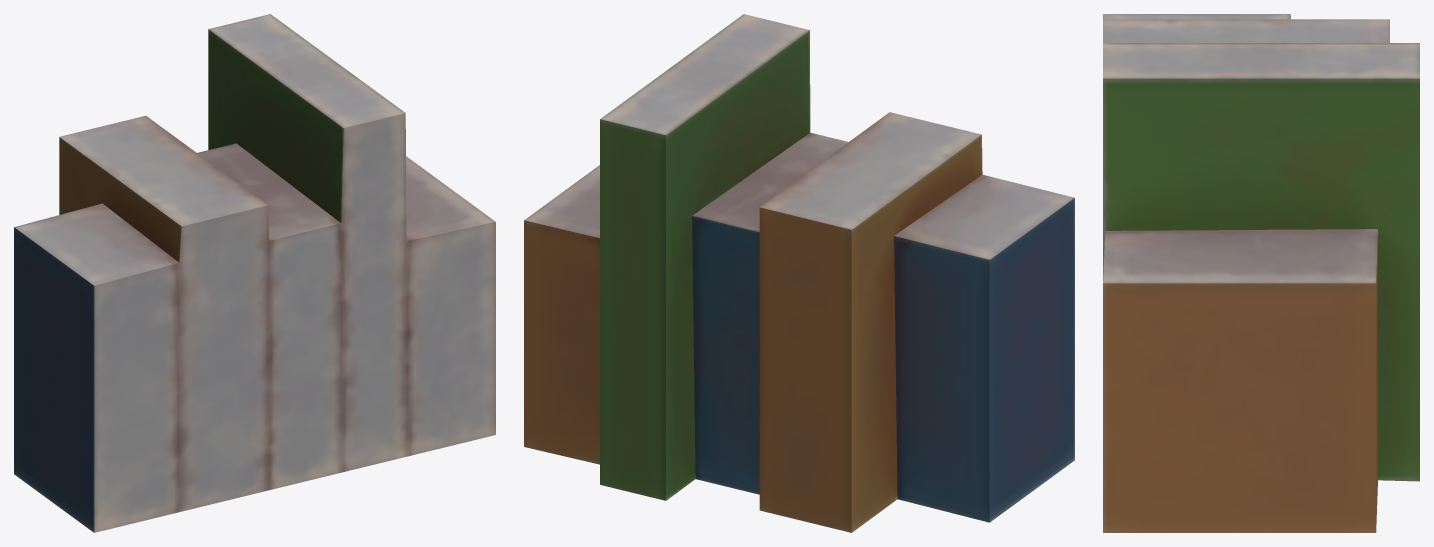
Rendered from Pfb_Indoors_Books__17.fbx.
3 views of the same model, side by side, from view 1: azimuth 30°, elevation 25°; view 2: azimuth 150°, elevation 25°; view 3: azimuth 270°, elevation 25° (orthographic). The views are drawn at different scales.
Visible parts, largest first — view 1: Mat_Indoors_Books_01_2; view 2: Mat_Indoors_Books_01_2; view 3: Mat_Indoors_Books_01_2.
Boxes of the visible parts, left/top/right/bottom form: Mat_Indoors_Books_01_2: left=14, top=14, right=495, bottom=532; Mat_Indoors_Books_01_2: left=524, top=14, right=1074, bottom=532; Mat_Indoors_Books_01_2: left=1103, top=14, right=1419, bottom=532.
Size of the model in its own units: 0.6682 by 0.5469 by 0.3898.
1 material, 1 textured.
